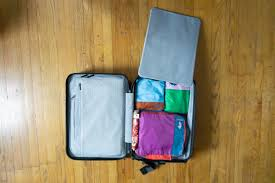suitcase: (66, 71, 198, 164)
